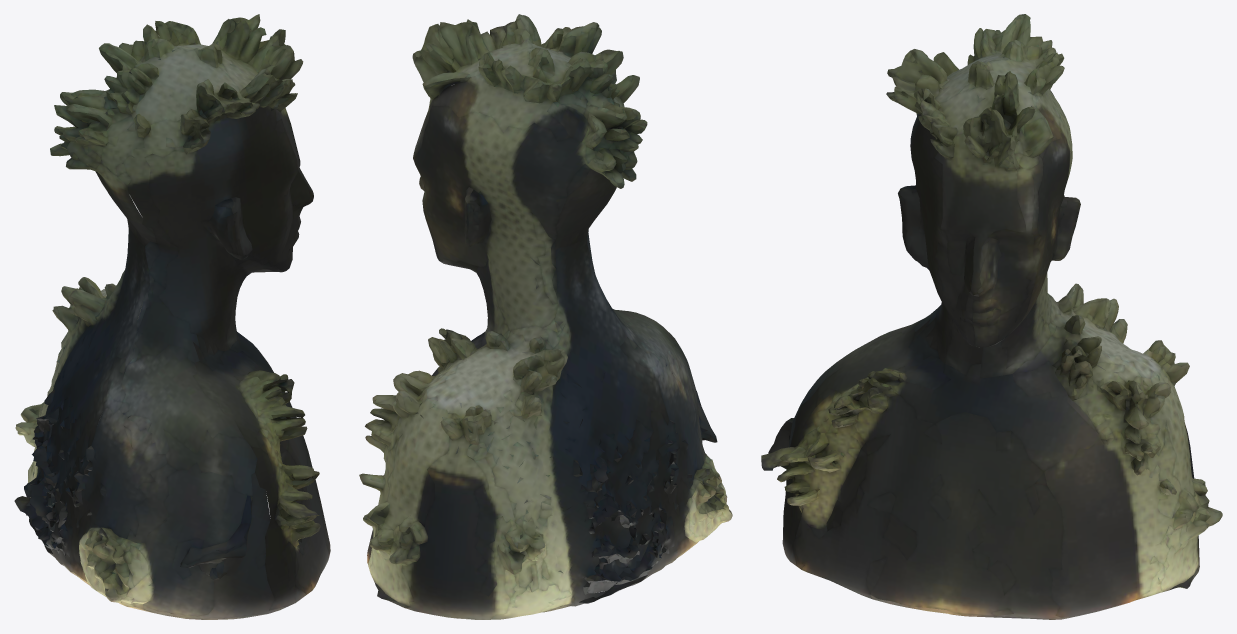
File: Statue 2.glb
The picture shows the model from 3 angles, left to right: view 1: azimuth 30°, elevation 25°; view 2: azimuth 150°, elevation 25°; view 3: azimuth 270°, elevation 25°; orthographic projection. The views are drawn at different scales.
Parts seen in each view (by area): view 1: Statue 2.001; view 2: Statue 2.001; view 3: Statue 2.001.
Part boxes in pixels (x1,y1,x2,y2): Statue 2.001: [14, 14, 330, 619]; Statue 2.001: [359, 14, 732, 619]; Statue 2.001: [761, 14, 1222, 619].
Size of the model in its own units: 0.372 by 0.6875 by 0.5578.
1 material, 1 textured.
